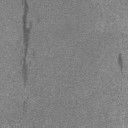red iron: (20, 0, 32, 86), (117, 53, 124, 70)
